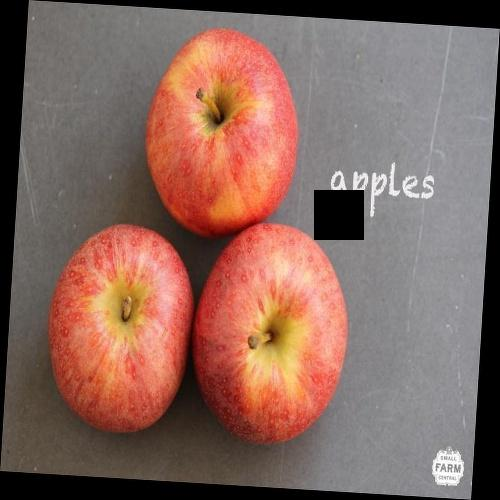red apple: (191, 218, 345, 448), (144, 27, 304, 237), (47, 226, 191, 435)
